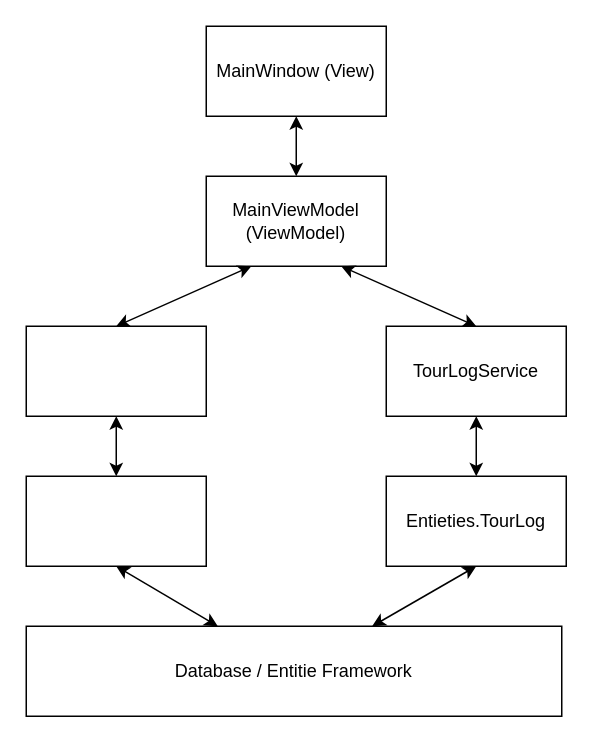
Some shapes in this 593 by 743 pixel diagram are drawn without their labels. Here are the shapes that lost their labels. From the top down, the centre of each, then its label:
At point (115, 370): "TourService".
At point (115, 520): "Entities.Tour".
